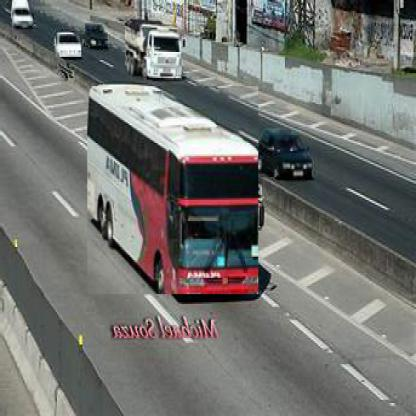bus: (87, 87, 259, 297)
car: (257, 128, 313, 180), (56, 35, 82, 60), (12, 3, 35, 30), (85, 24, 109, 48)
truck: (125, 24, 183, 82)
